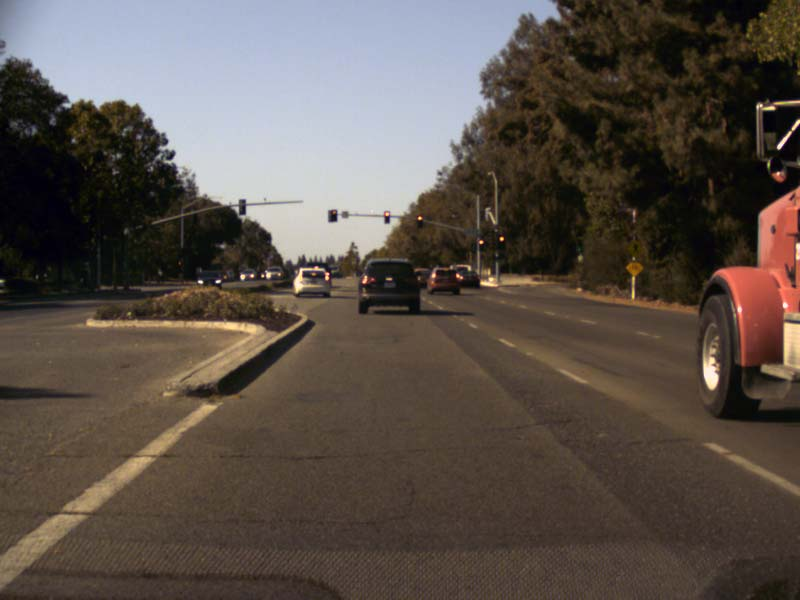Red: (330, 210, 337, 222), (384, 211, 389, 224), (498, 235, 505, 244), (417, 215, 422, 227), (478, 237, 484, 247), (177, 259, 181, 269)
